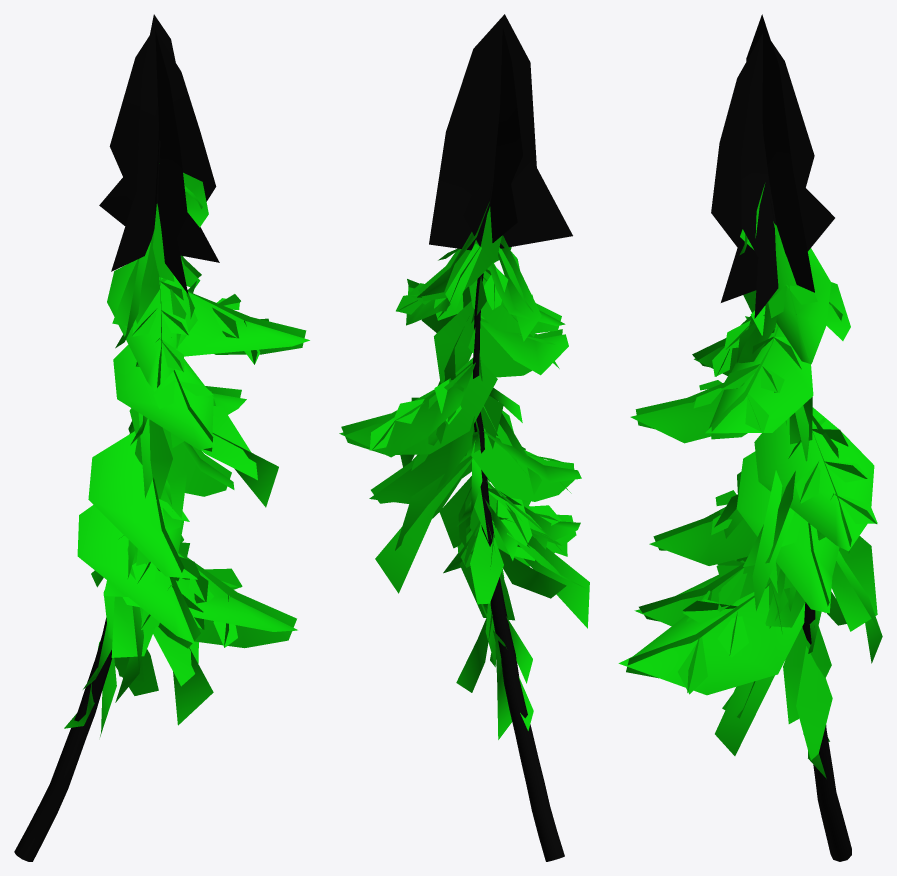
Rendered from pine_004_clump02_C.FBX.
3 renders of one model, left to right at view 1: azimuth 30°, elevation 25°; view 2: azimuth 150°, elevation 25°; view 3: azimuth 270°, elevation 25°, orthographic. The views are drawn at different scales.
Visible parts, largest first — view 1: pine_004_clump02_C_LOD0; view 2: pine_004_clump02_C_LOD0; view 3: pine_004_clump02_C_LOD0.
Part boxes in pixels (x1=…): pine_004_clump02_C_LOD0: x1=14, y1=14, x2=309, y2=861; pine_004_clump02_C_LOD0: x1=339, y1=14, x2=589, y2=861; pine_004_clump02_C_LOD0: x1=618, y1=14, x2=882, y2=861.
Size of what is drawn, in the model's own units: 397 by 1375 by 370.
